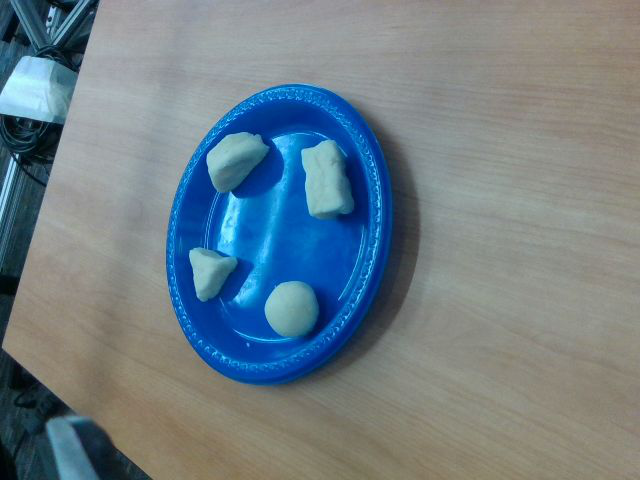mashed_potato: (301, 140, 354, 219), (207, 133, 269, 194), (265, 280, 319, 339), (189, 247, 237, 301)
